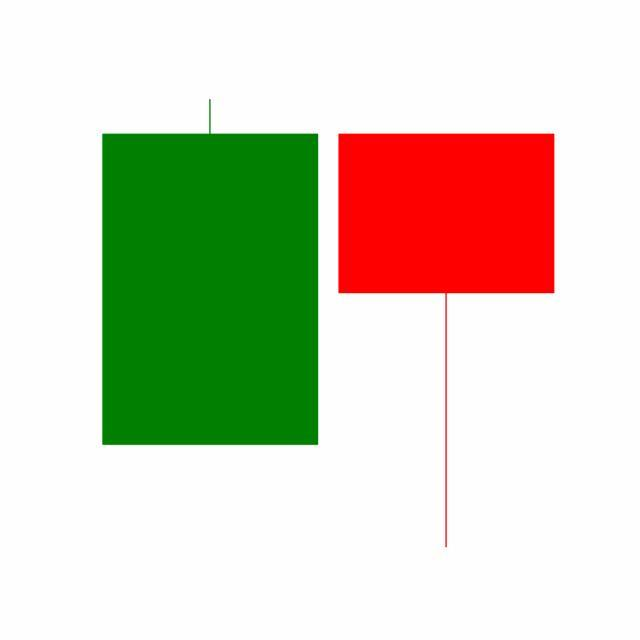Hammer: (328, 130, 566, 553)
